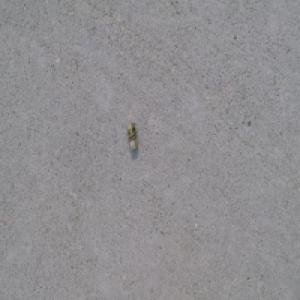BoltNutSet: (126, 121, 138, 149)
